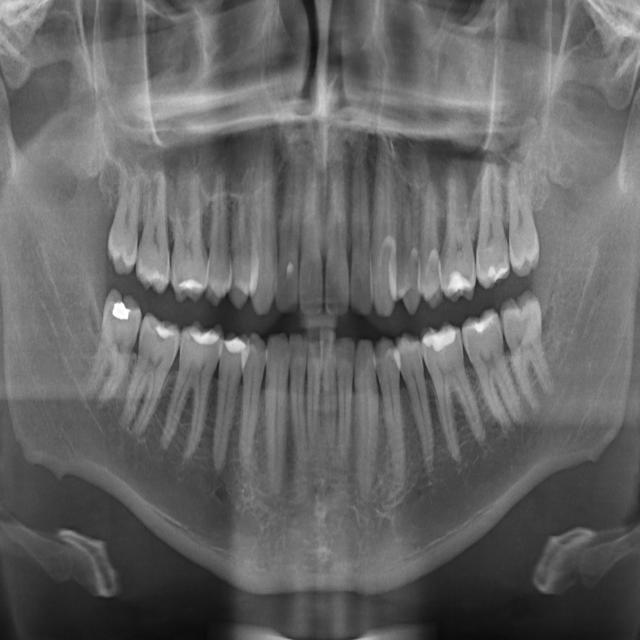AmalgamRestoration: (110, 300, 132, 328)
CompositeResinRestoration: (419, 327, 457, 359), (448, 263, 477, 301), (464, 314, 496, 345), (186, 324, 220, 352), (177, 273, 208, 301), (224, 332, 248, 357), (486, 263, 509, 288), (154, 321, 174, 345)
